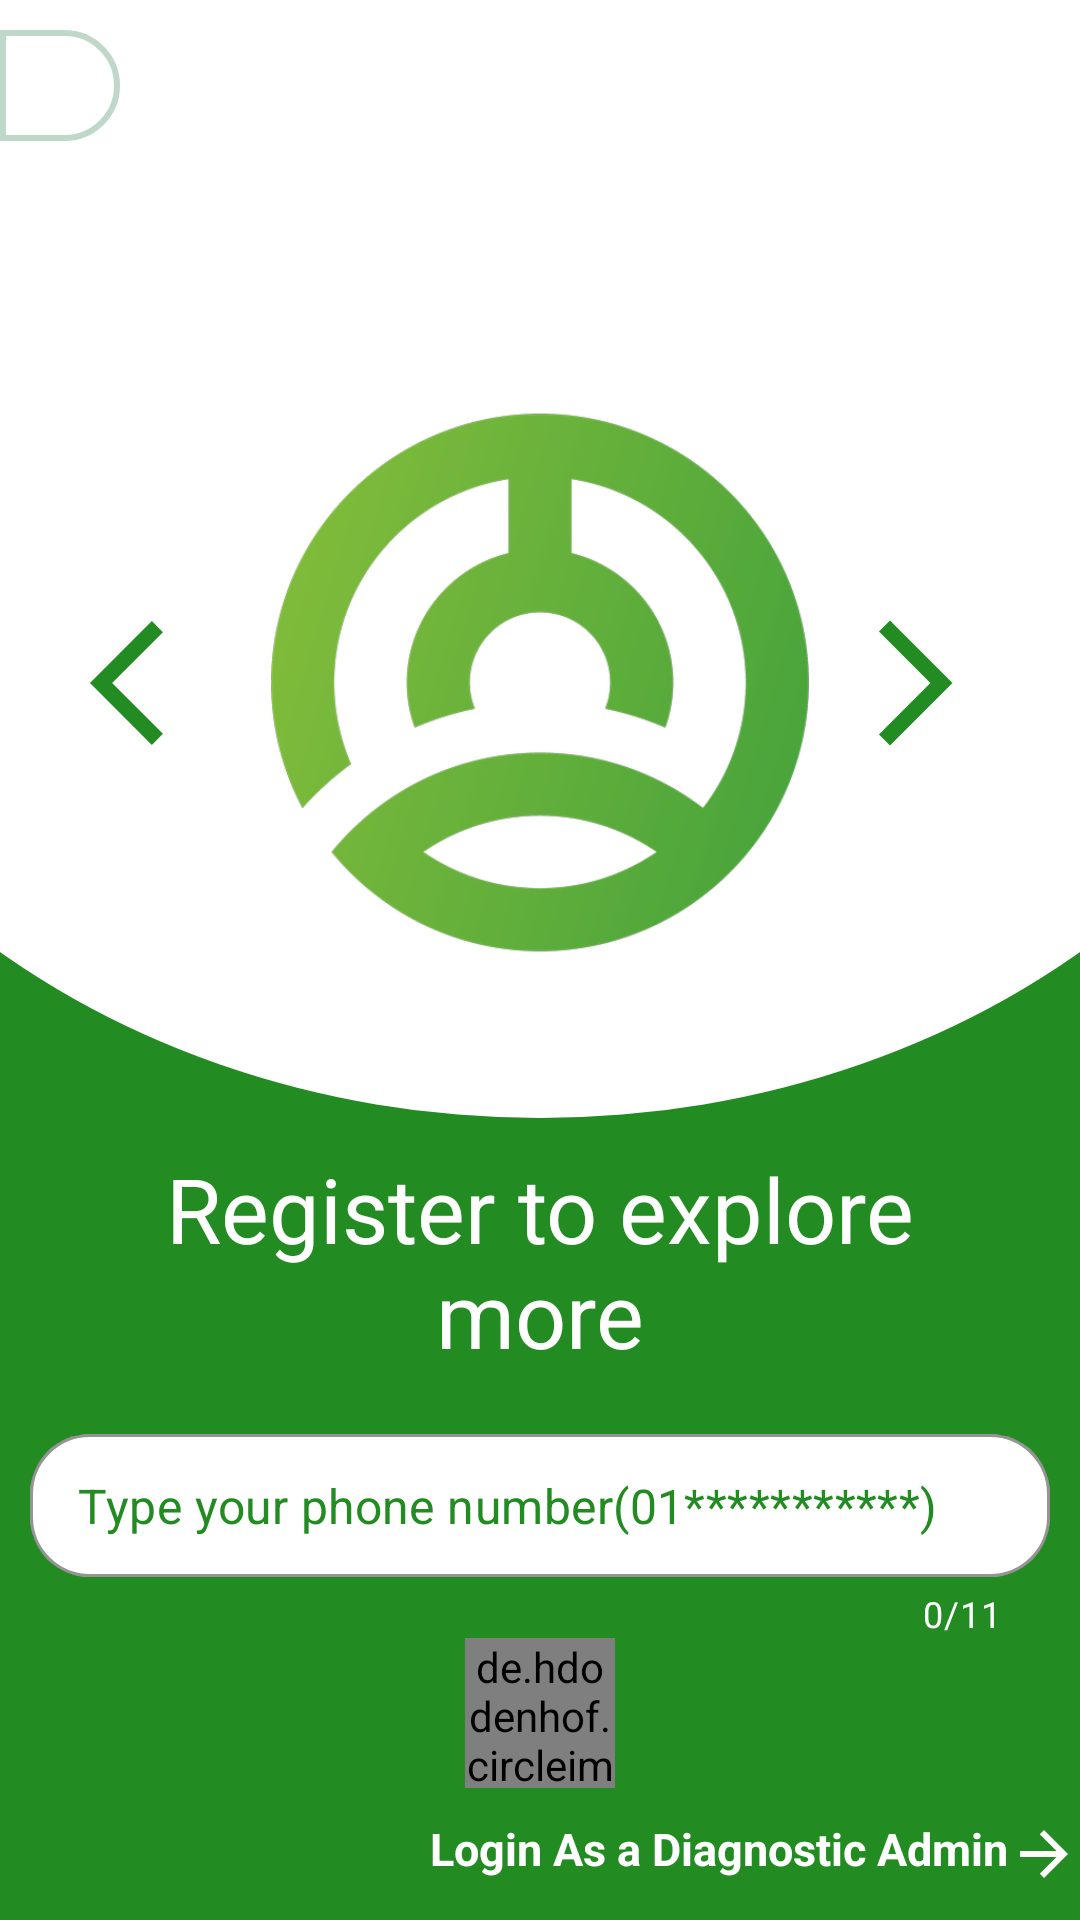

Icons on this 1080x1920 Android screen, each with its box as bbox=[x1, y1, x2, y2]:
arrow back: bbox=[90, 621, 163, 745]
arrow forward: bbox=[879, 620, 953, 746]
